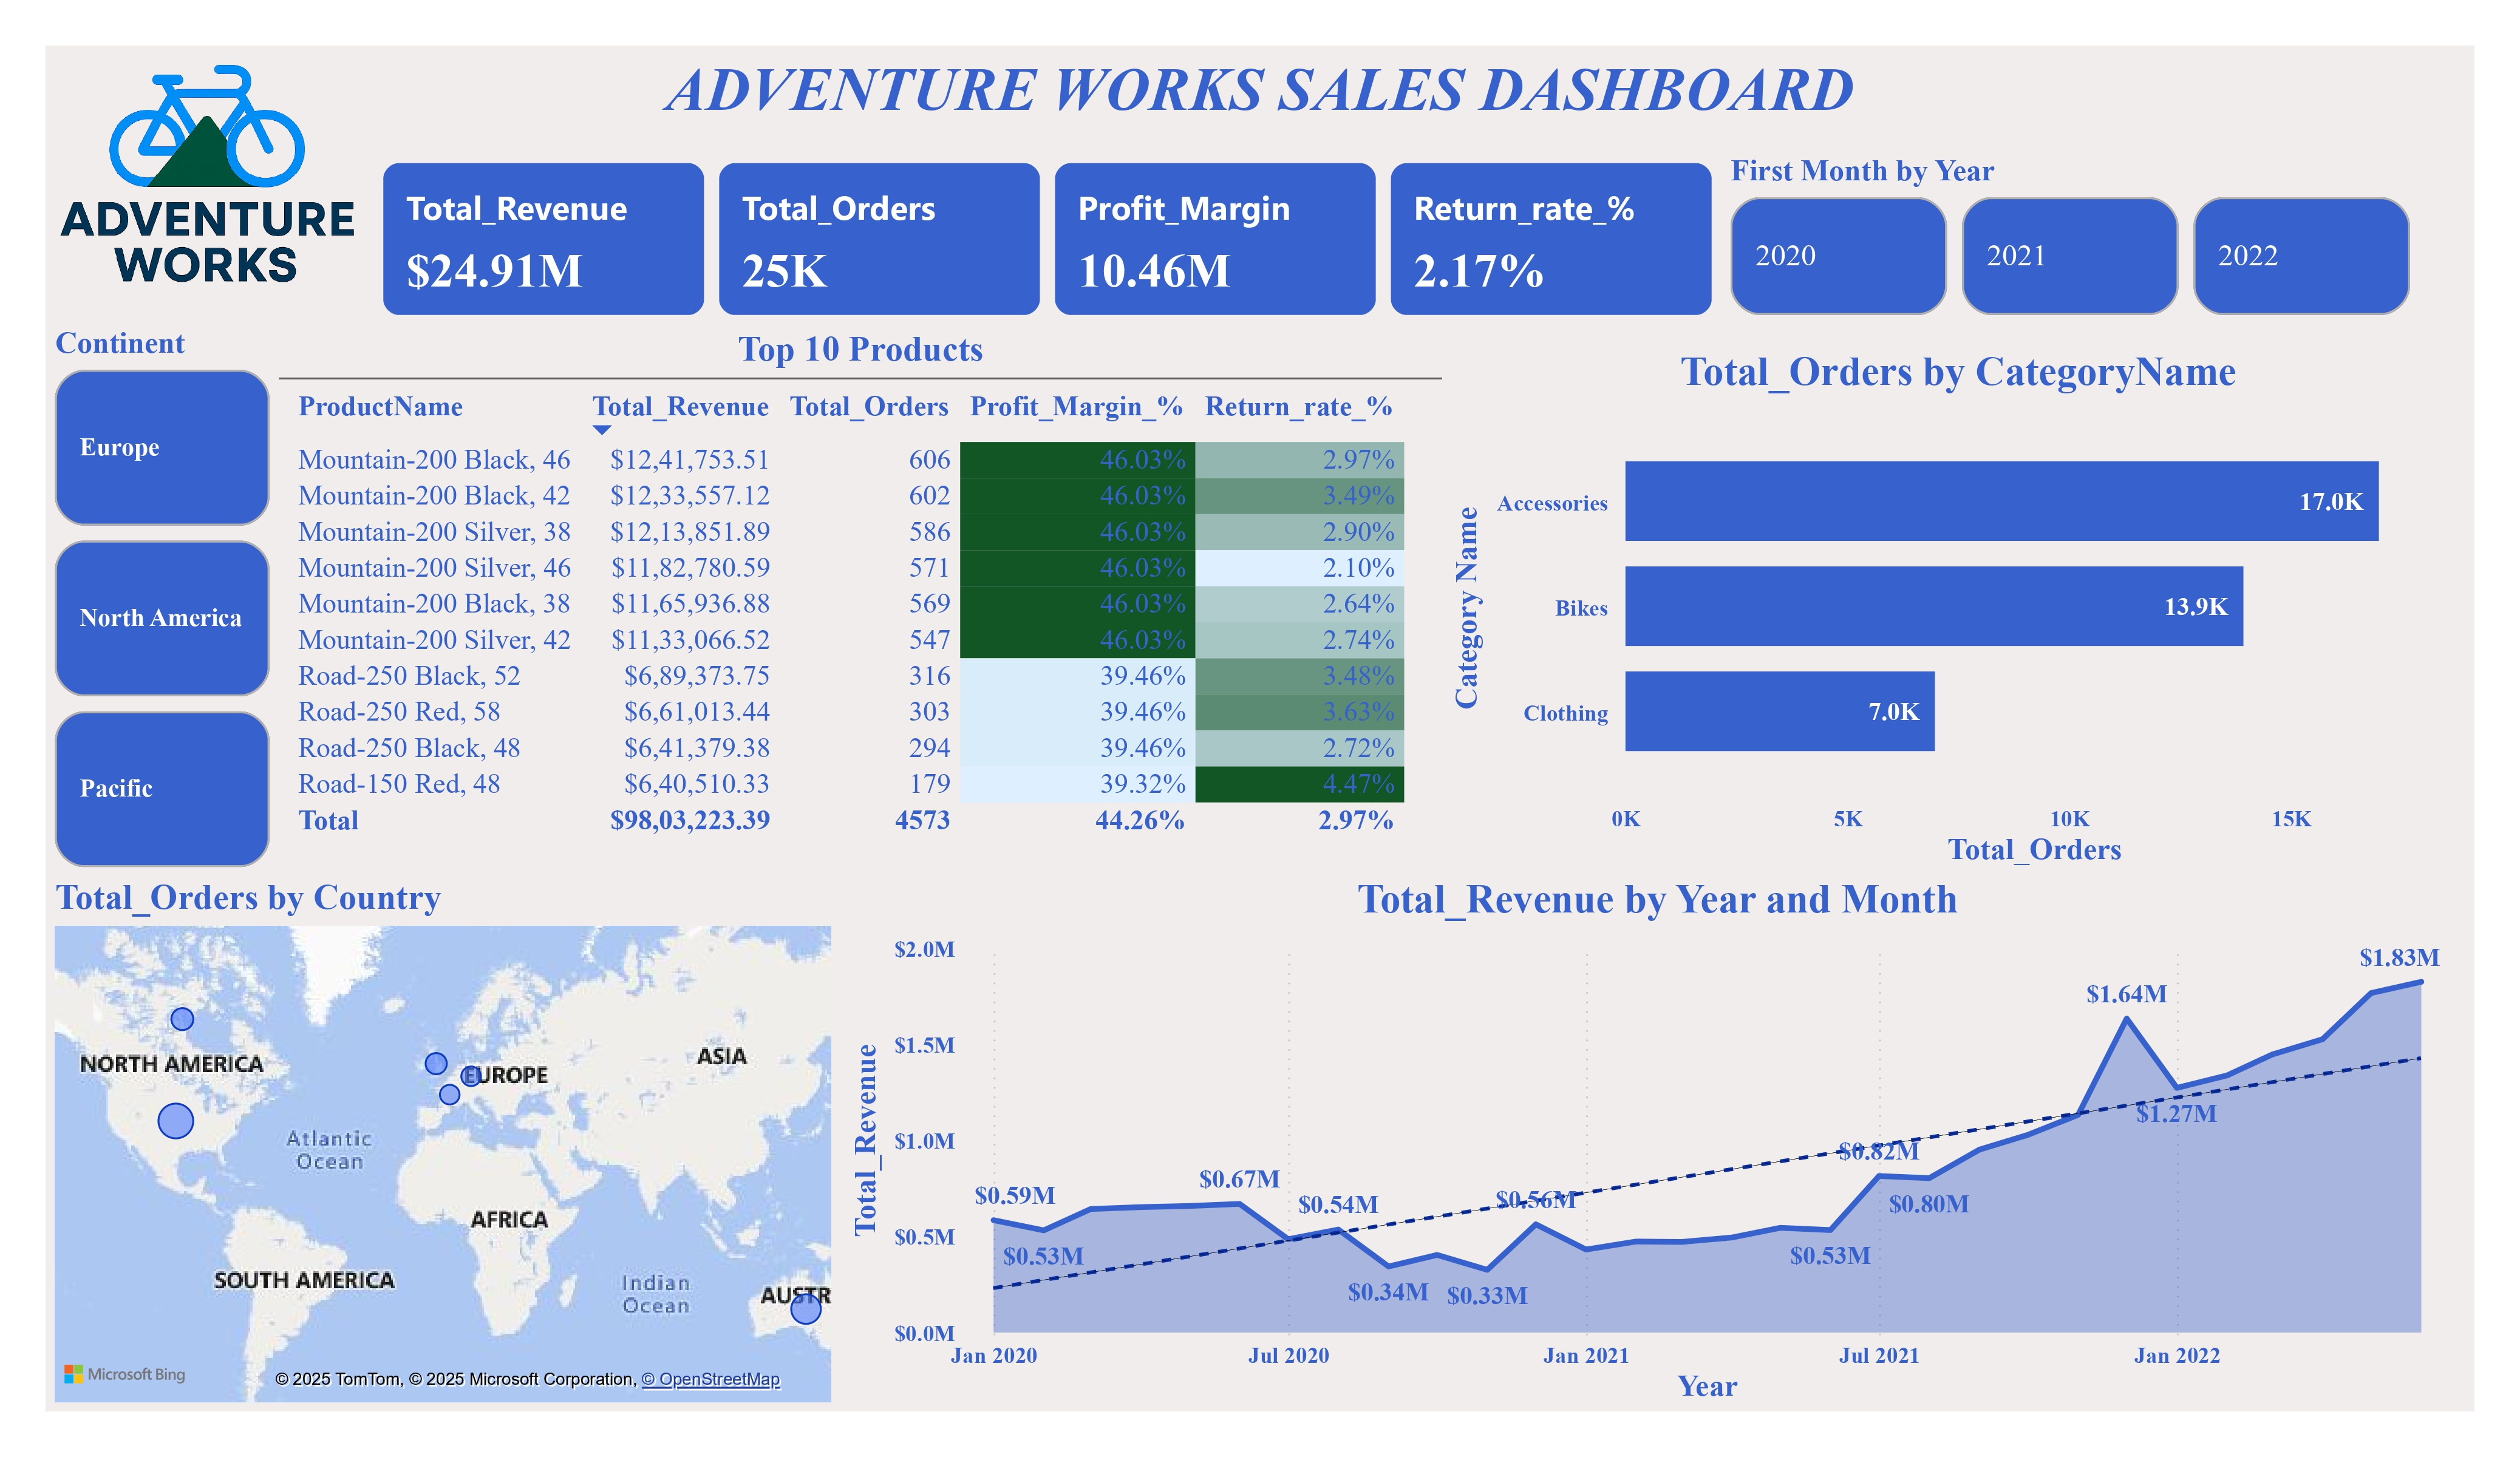

The page's visual inventory and layout, read from the dashboard file:
{"tool":"powerbi","page":{"name":"Dashboard","canvas":[1280,720],"ordinal":5},"visuals":[{"type":"cardVisual","fields":{"Data":["Measure_Table.Total_Revenue","Measure_Table.Total_Orders","Measure_Table.Profit_Margin","Measure_Table.Return_rate_%"]},"box":[172.9,57.1,710,90],"z":0},{"type":"textbox","box":[0,0,1279.7,56.7],"z":1000},{"type":"advancedSlicerVisual","fields":{"Values":["Calendar Lookup.Date.Variation.Date Hierarchy.Year"]},"box":[882.9,57.1,370,90],"z":2000},{"type":"advancedSlicerVisual","fields":{"Values":["Territory Lookup.Continent"]},"box":[0,147.5,122.5,290],"z":3000},{"type":"pivotTable","title":"Top 10 Products","fields":{"Rows":["Product Lookup.ProductName"],"Values":["Measure_Table.Total_Revenue","Measure_Table.Total_Orders","Measure_Table.Profit_Margin_%","Measure_Table.Return_rate"]},"box":[122.9,148.6,612.9,288.6],"z":4000},{"type":"clusteredBarChart","fields":{"Category":["Product Categories Lookup.CategoryName"],"Y":["Measure_Table.Total_Orders"]},"box":[735.7,160,544.3,277.1],"z":5000},{"type":"lineChart","fields":{"Y":["Measure_Table.Total_Revenue"],"Category":["Calendar Lookup.Date.Variation.Date Hierarchy.Year","Calendar Lookup.Date.Variation.Date Hierarchy.Month"]},"box":[418.8,437.5,861.2,282.5],"z":6000},{"type":"map","fields":{"Category":["Territory Lookup.Country"],"Size":["Measure_Table.Total_Orders"]},"box":[0,437.5,418.8,282.5],"z":7000},{"type":"image","box":[0,0,172.9,135.7],"z":8000}]}

Visuals, with their boxes on the page's 1280x720 design canvas (x1, y1, x2, y2). These are canvas units, not pixel positions in the 2520x1457 screenshot, which may show the page scaled, cropped or inside an application window:
cardVisual - Measure_Table.Total_Revenue x Measure_Table.Total_Orders: {"x1": 173, "y1": 57, "x2": 883, "y2": 147}
textbox: {"x1": 0, "y1": 0, "x2": 1280, "y2": 57}
advancedSlicerVisual - Calendar Lookup.Date.Variation.Date Hierarchy.Year: {"x1": 883, "y1": 57, "x2": 1253, "y2": 147}
advancedSlicerVisual - Territory Lookup.Continent: {"x1": 0, "y1": 148, "x2": 122, "y2": 438}
"Top 10 Products" pivotTable: {"x1": 123, "y1": 149, "x2": 736, "y2": 437}
clusteredBarChart - Product Categories Lookup.CategoryName x Measure_Table.Total_Orders: {"x1": 736, "y1": 160, "x2": 1280, "y2": 437}
lineChart - Measure_Table.Total_Revenue x Calendar Lookup.Date.Variation.Date Hierarchy.Year: {"x1": 419, "y1": 438, "x2": 1280, "y2": 720}
map - Territory Lookup.Country x Measure_Table.Total_Orders: {"x1": 0, "y1": 438, "x2": 419, "y2": 720}
image: {"x1": 0, "y1": 0, "x2": 173, "y2": 136}
